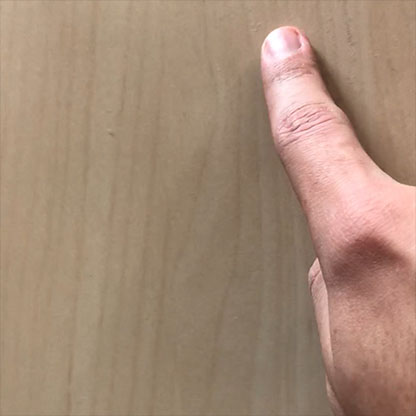fingertip: (243, 24, 328, 71)
